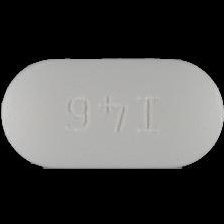43547-249: (0, 0, 224, 224)
